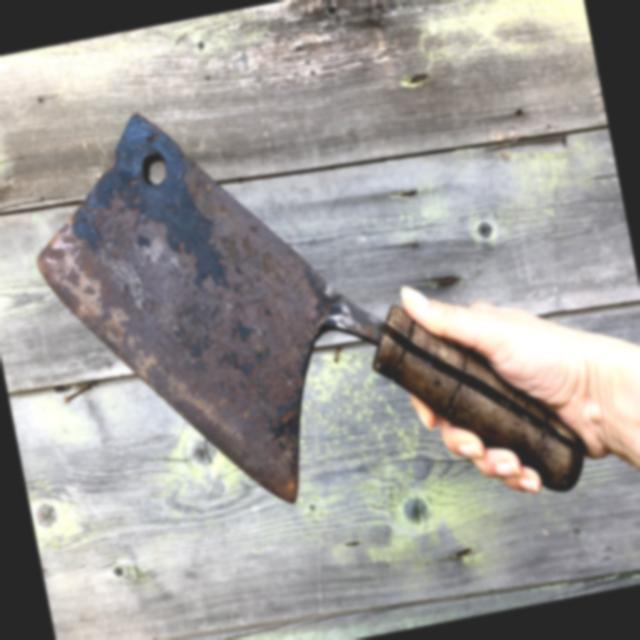cleaver: (14, 29, 627, 583)
